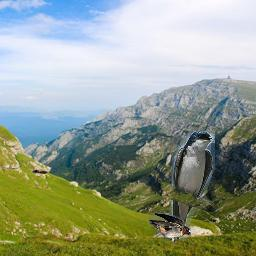Swallow: (168, 131, 215, 239), (149, 213, 191, 244)
